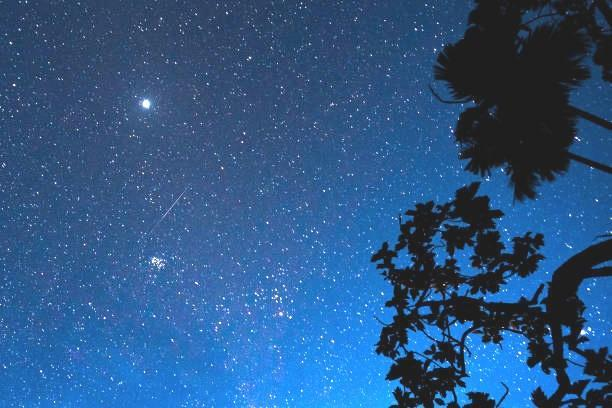meteorite: (133, 173, 215, 230)
